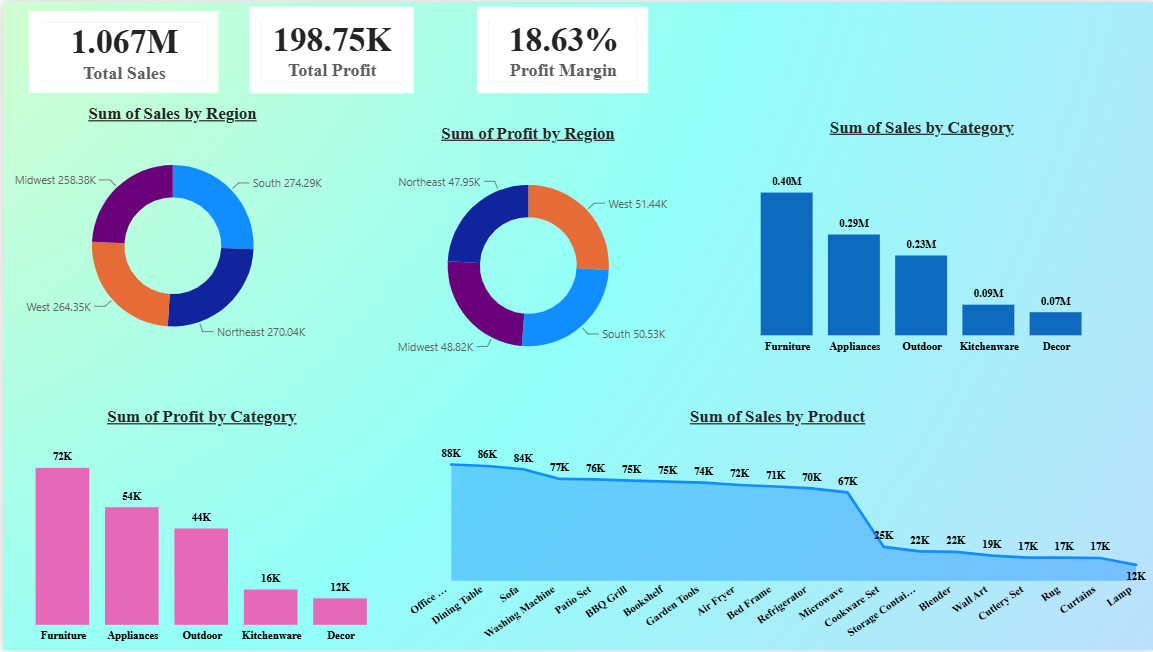

Layout of this report page (visuals, bound fields, positions):
{"tool":"powerbi","page":{"name":"Dashboard 01","canvas":[1280,720],"ordinal":0},"visuals":[{"type":"cardVisual","title":"fffff","fields":{"Data":["Sum(brighthome_dataset.Revenue)"]},"box":[23.9,4.8,221.7,101.7],"z":0},{"type":"cardVisual","title":"fffff","fields":{"Data":["Sum(brighthome_dataset.Profit)"]},"box":[268.3,0,193.3,106.7],"z":1000},{"type":"cardVisual","title":"fffff","fields":{"Data":["brighthome_dataset.Profit Margin"]},"box":[521.7,0,200,106.7],"z":2000},{"type":"donutChart","fields":{"Category":["brighthome_dataset.Region"],"Y":["Sum(brighthome_dataset.Sales)"]},"box":[0,113.3,376.7,283.3],"z":3000},{"type":"donutChart","fields":{"Category":["brighthome_dataset.Region"],"Y":["Sum(brighthome_dataset.Profit)"]},"box":[398.3,135,370,284],"z":4000},{"type":"columnChart","fields":{"Y":["Sum(brighthome_dataset.Sales)"],"Category":["brighthome_dataset.Category"]},"box":[806,128,428.3,270],"z":5000},{"type":"columnChart","fields":{"Category":["brighthome_dataset.Category"],"Y":["Sum(brighthome_dataset.Profit)"]},"box":[0,450,442,270],"z":6000},{"type":"areaChart","fields":{"Category":["brighthome_dataset.Product"],"Y":["Sum(brighthome_dataset.Sales)"]},"box":[442,450,838,270],"z":7000}]}

Visuals, with their boxes in screenshot pixels (x1, y1, x2, y2), scaled from the page's 1280x720 canvas onto the 1153x652 screenshot:
"fffff" cardVisual: bbox=[22, 4, 221, 96]
"fffff" cardVisual: bbox=[242, 0, 416, 97]
"fffff" cardVisual: bbox=[470, 0, 650, 97]
donutChart - brighthome_dataset.Region x Sum(brighthome_dataset.Sales): bbox=[0, 103, 339, 359]
donutChart - brighthome_dataset.Region x Sum(brighthome_dataset.Profit): bbox=[359, 122, 692, 379]
columnChart - Sum(brighthome_dataset.Sales) x brighthome_dataset.Category: bbox=[726, 116, 1112, 360]
columnChart - brighthome_dataset.Category x Sum(brighthome_dataset.Profit): bbox=[0, 408, 398, 651]
areaChart - brighthome_dataset.Product x Sum(brighthome_dataset.Sales): bbox=[398, 408, 1152, 651]
